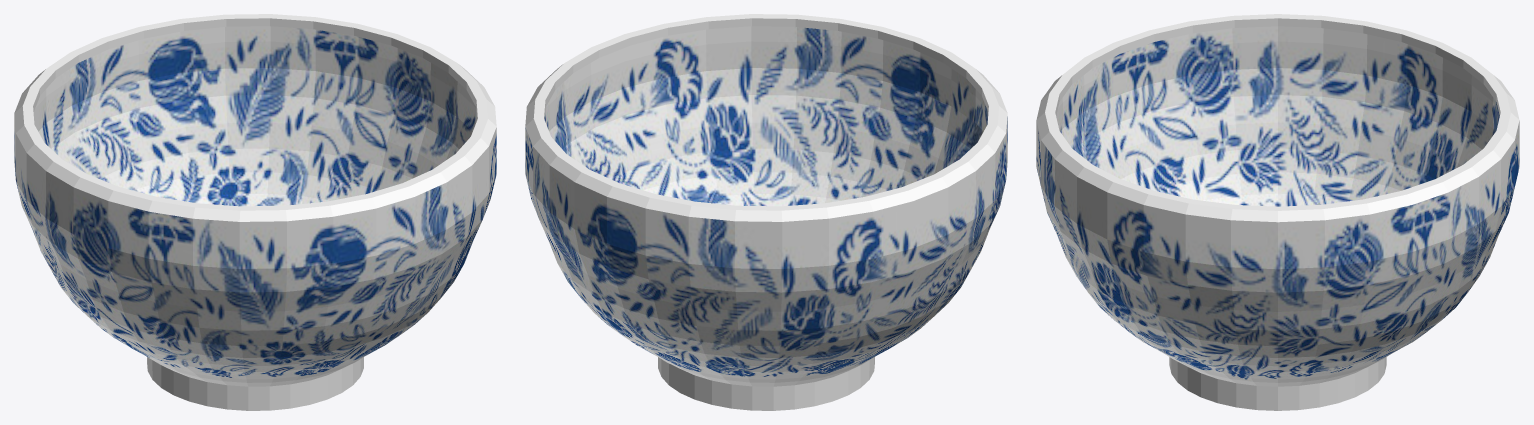
The model's file is Schaaltje3.obj.
3 renders of one model, left to right at view 1: azimuth 30°, elevation 25°; view 2: azimuth 150°, elevation 25°; view 3: azimuth 270°, elevation 25°, orthographic.
Parts seen in each view (by area): view 1: Cylinder_Material.001; view 2: Cylinder_Material.001; view 3: Cylinder_Material.001.
Part boxes in pixels (x1,y1,x2,y2): Cylinder_Material.001: (14, 14, 496, 410); Cylinder_Material.001: (525, 14, 1007, 410); Cylinder_Material.001: (1036, 14, 1519, 410).
Size of the model in its own units: 21.6 by 12.46 by 21.6.
